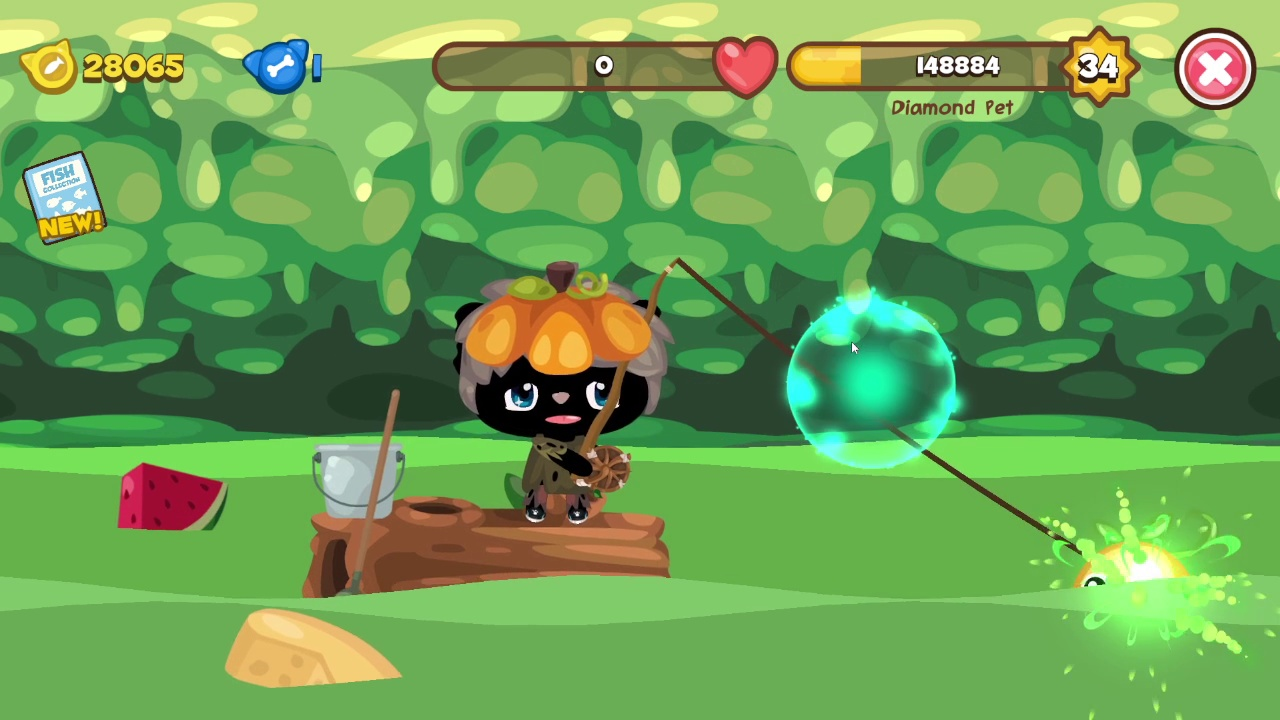point: (785, 297, 958, 472)
